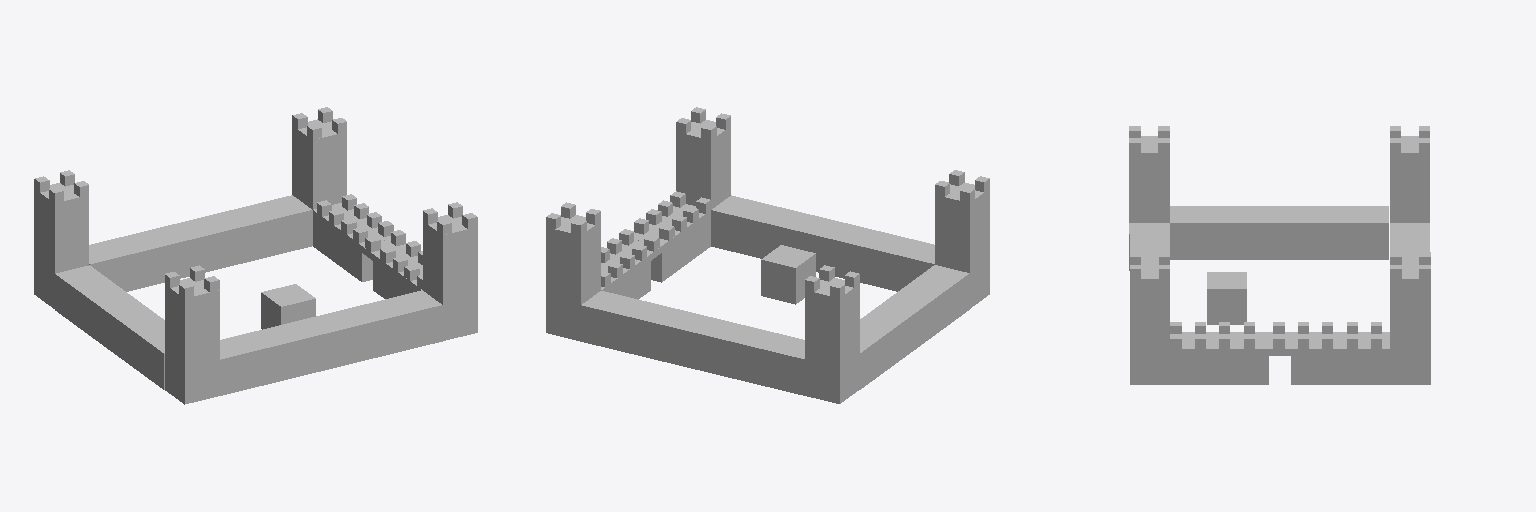
The model's file is castle2.0.obj.
3 views of the same model, side by side, from view 1: azimuth 30°, elevation 25°; view 2: azimuth 150°, elevation 25°; view 3: azimuth 270°, elevation 25° (orthographic).
Parts seen in each view (by area): view 1: Cube.034, Cube.033, Cube.005_Cube.004, Cube.043, Cube.006_Cube.005, Cube.042, Cube.007, Cube.000, Cube.003_Cube.002, Cube.001; view 2: Cube.033, Cube.034, Cube.005_Cube.004, Cube.042, Cube.007, Cube.043, Cube.006_Cube.005, Cube.001, Cube.003_Cube.002, Cube.000; view 3: Cube.005_Cube.004, Cube.007, Cube.006_Cube.005, Cube.000, Cube.001, Cube.043, Cube.042, Cube.003_Cube.002, Cube.034, Cube.033.
Part boxes in pixels (x1,y1,x2,y2): Cube.034: (220, 290, 442, 395); Cube.033: (89, 195, 312, 291); Cube.005_Cube.004: (55, 265, 164, 389); Cube.043: (165, 278, 219, 404); Cube.006_Cube.005: (423, 215, 477, 340); Cube.042: (34, 183, 88, 308); Cube.007: (292, 119, 346, 209); Cube.000: (313, 203, 390, 281); Cube.003_Cube.002: (261, 284, 315, 329); Cube.001: (373, 246, 422, 298); Cube.033: (581, 291, 804, 395); Cube.034: (711, 195, 934, 291); Cube.005_Cube.004: (860, 265, 969, 389); Cube.042: (805, 278, 859, 403); Cube.007: (546, 215, 600, 341); Cube.043: (935, 183, 989, 308); Cube.006_Cube.005: (676, 120, 730, 209); Cube.001: (634, 204, 710, 282); Cube.003_Cube.002: (761, 245, 815, 304); Cube.000: (601, 247, 650, 299); Cube.005_Cube.004: (1170, 206, 1388, 259); Cube.007: (1390, 262, 1430, 384); Cube.006_Cube.005: (1130, 262, 1169, 384); Cube.000: (1291, 332, 1389, 384); Cube.001: (1170, 332, 1268, 384); Cube.043: (1129, 136, 1169, 222); Cube.042: (1390, 136, 1429, 222); Cube.003_Cube.002: (1207, 272, 1246, 324); Cube.034: (1129, 223, 1169, 270); Cube.033: (1390, 223, 1429, 261).
Bounding box in the file's own units: 10.43 × 3.96 × 9.27.